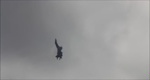maybay_muctieu: (53, 38, 64, 60)
